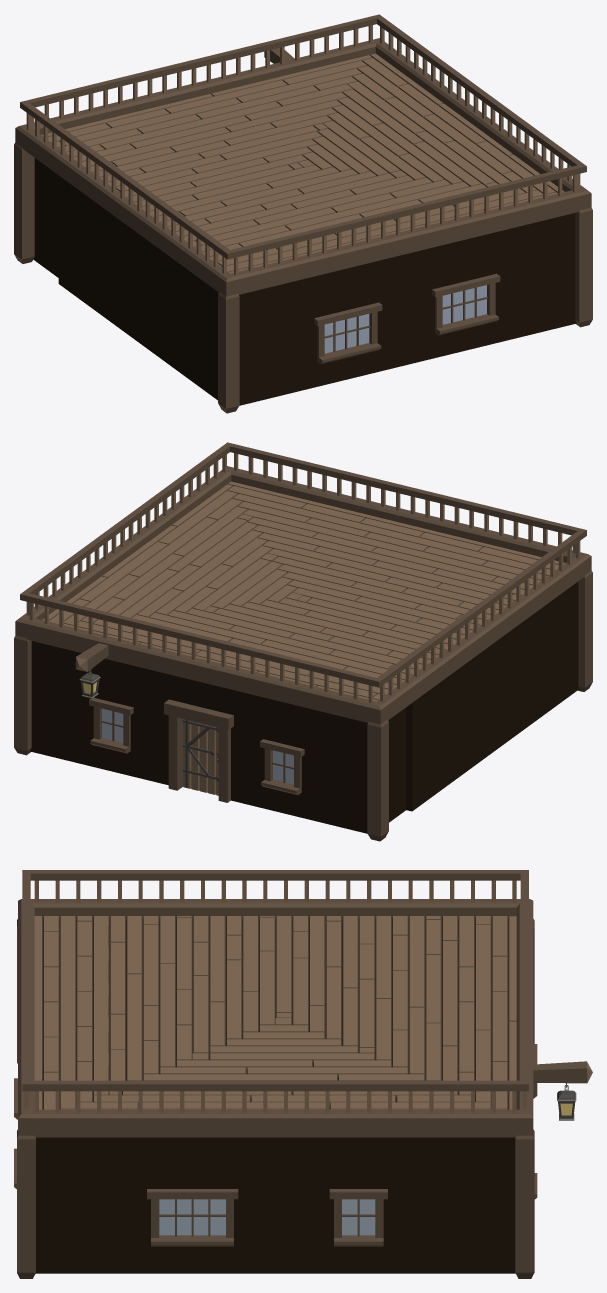
File: WoodVillageHouseTwo.fbx
3 renders of one model, top to bottom at view 1: azimuth 30°, elevation 25°; view 2: azimuth 150°, elevation 25°; view 3: azimuth 270°, elevation 25°, orthographic. The views are drawn at different scales.
Visible parts, largest first — view 1: mergedBlocks; view 2: mergedBlocks; view 3: mergedBlocks.
Part boxes in pixels (box(x1,y1,x2,y2)): mergedBlocks: box(14, 14, 592, 413); mergedBlocks: box(14, 442, 592, 841); mergedBlocks: box(14, 870, 592, 1278).
Size of the model in its own units: 62.66 by 25.73 by 69.69.
